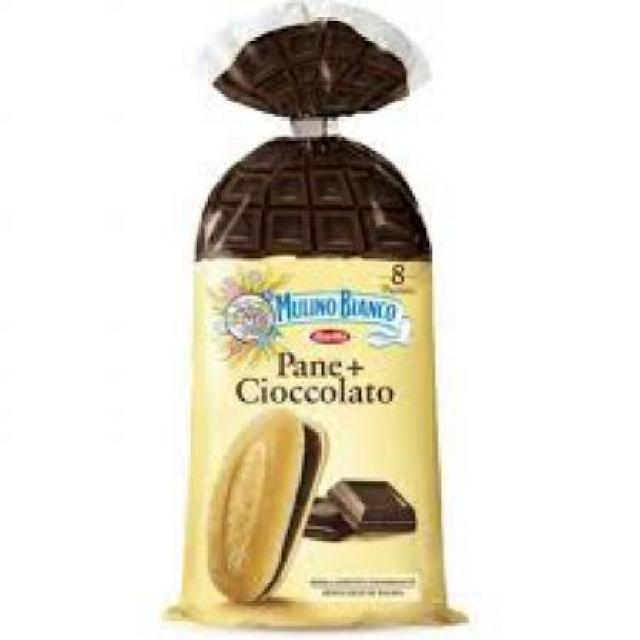Merendine: (156, 6, 474, 632)
